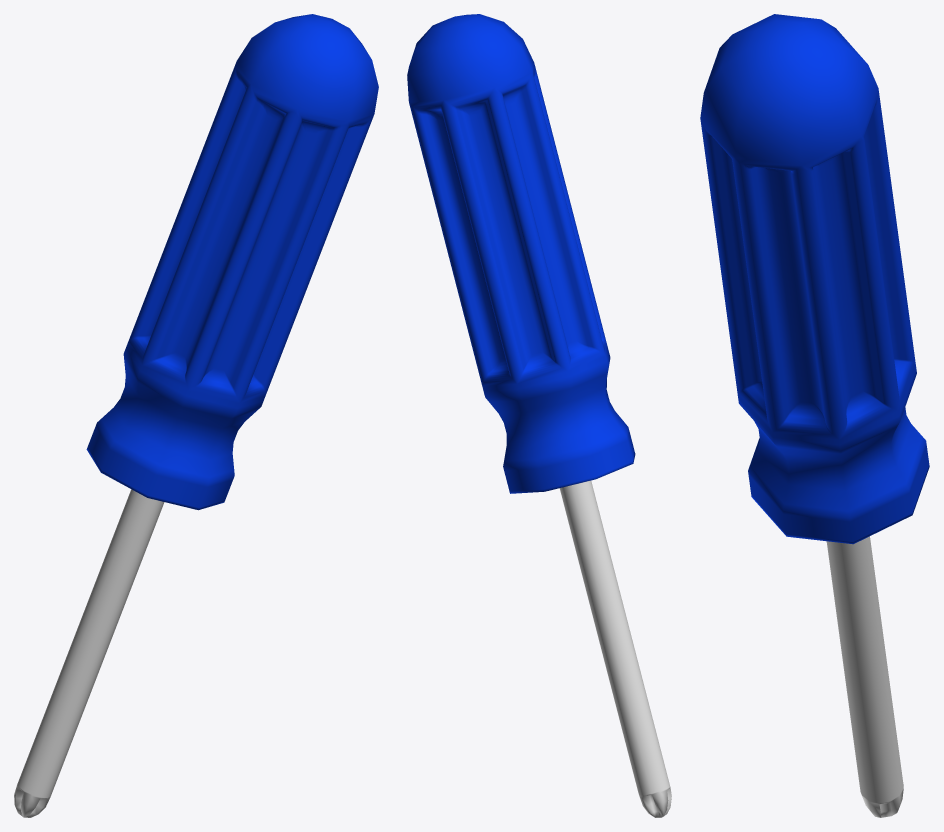
3 renders of one model, left to right at view 1: azimuth 30°, elevation 25°; view 2: azimuth 150°, elevation 25°; view 3: azimuth 270°, elevation 25°, orthographic. The views are drawn at different scales.
Parts seen in each view (by area): view 1: Screw_Driver; view 2: Screw_Driver; view 3: Screw_Driver.
Part boxes in pixels (x1,y1,x2,y2): Screw_Driver: (14, 14, 378, 817); Screw_Driver: (407, 14, 671, 817); Screw_Driver: (700, 14, 929, 817).
Size of the model in its own units: 0.5502 by 1.28 by 0.2846.
